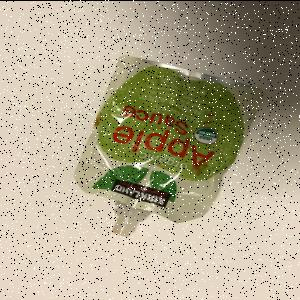Trash: (73, 56, 266, 238)
